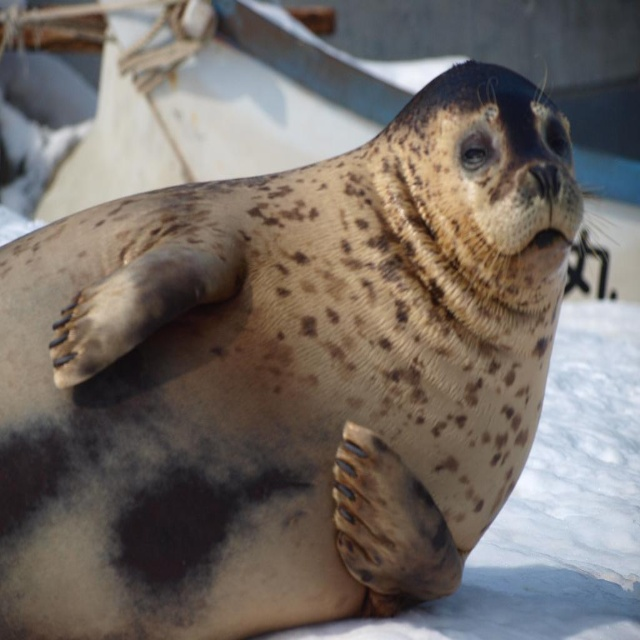Harbor seal: (0, 47, 625, 639)
